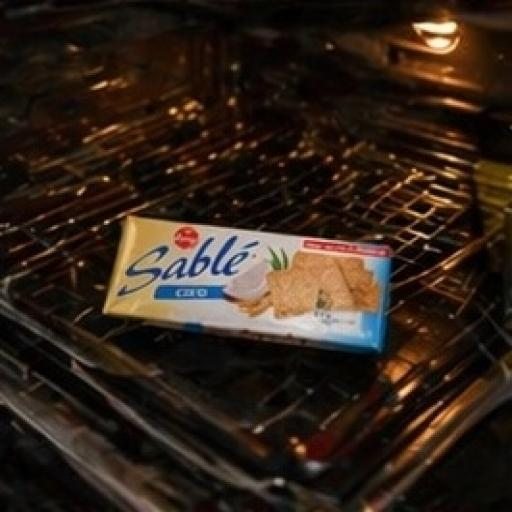sabl: (60, 145, 441, 414)
